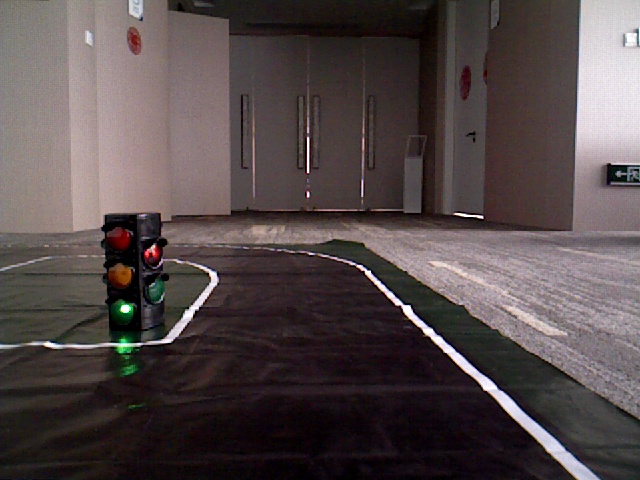green: (103, 215, 143, 331)
